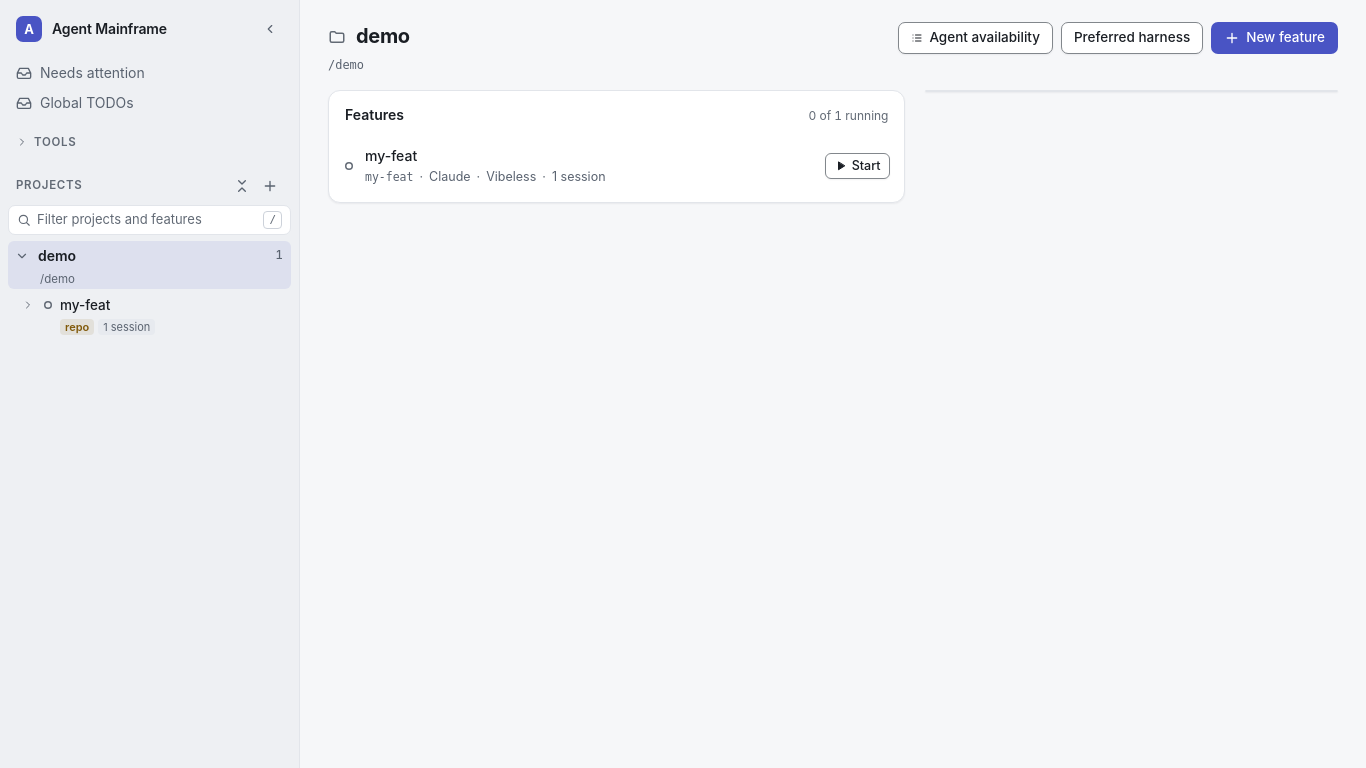
Test: starts a stopped linked editing session through the tab's own start instead of opening another
Click the button "my-feat".
click(172, 305)  # box [60,296,285,315]
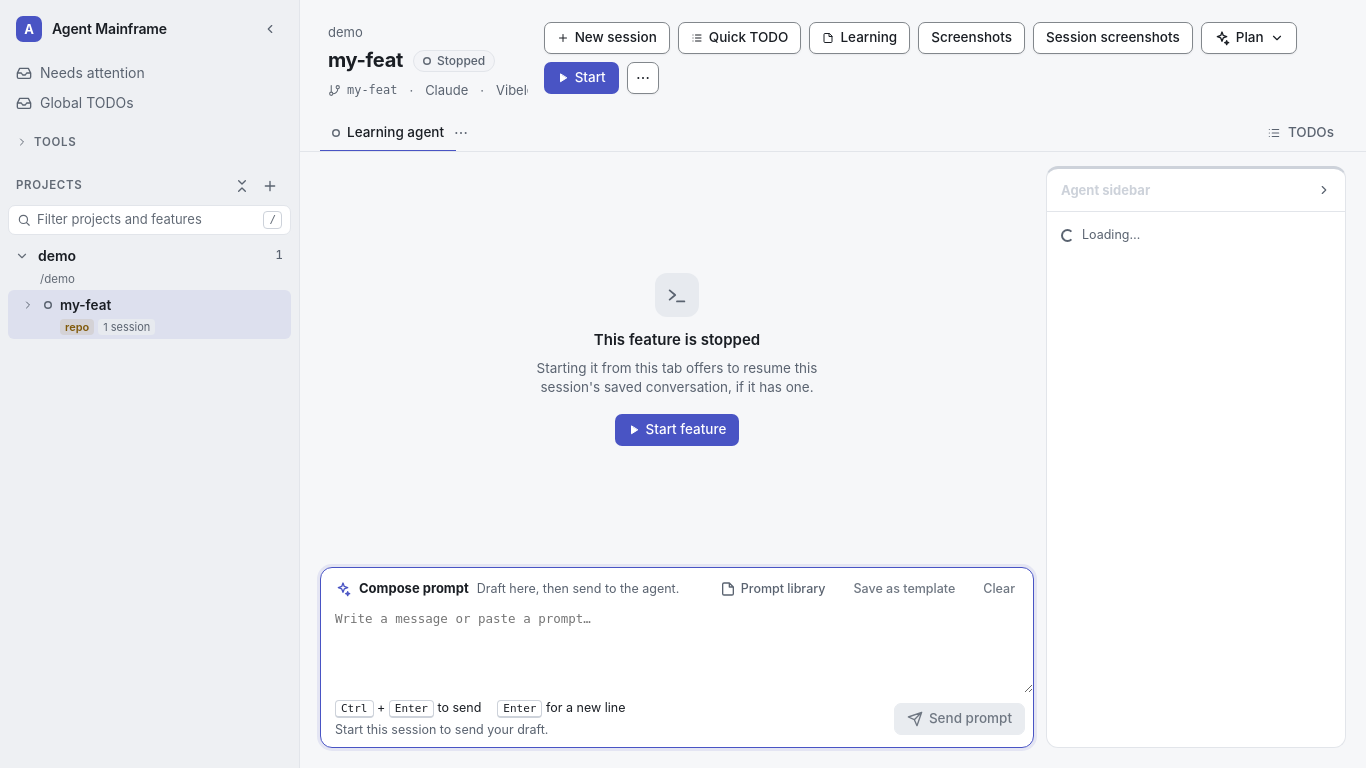
Click the button "Learning".
click(860, 38)  # box [810,22,910,54]
(page scrolled)
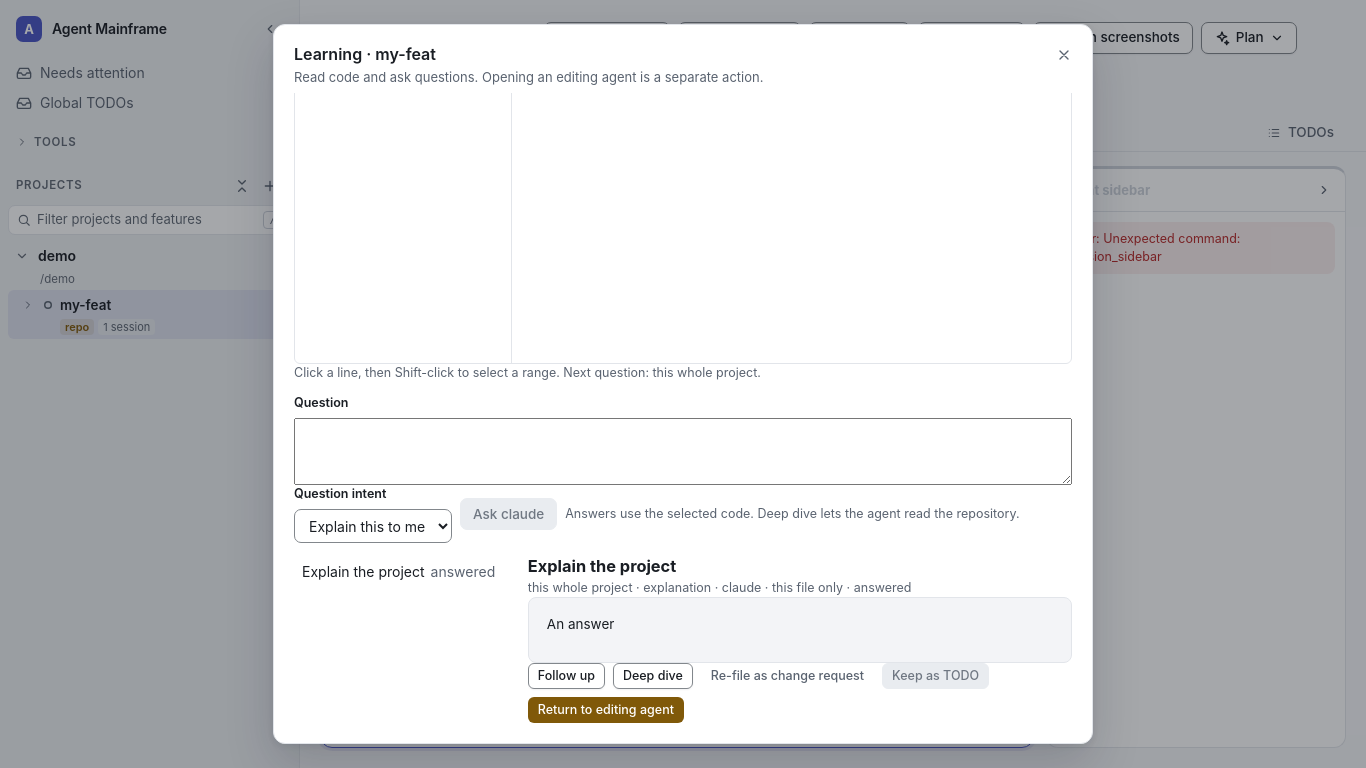
Expected: the dialog "Learning" is shown, [273,24,1093,744]
Click the button "Return to editing agent".
click(606, 710)  # box [528,697,684,723]
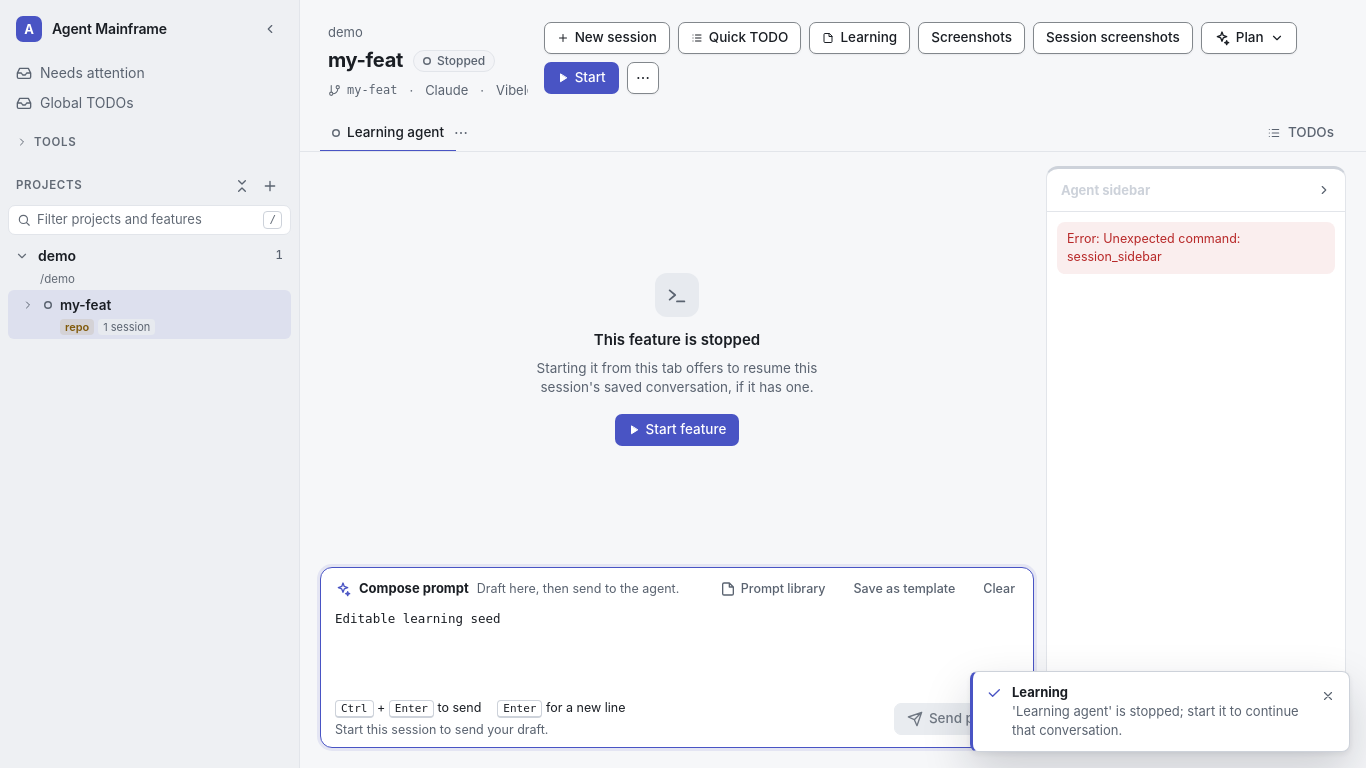
Expected: the text "is stopped; start it" is shown, [1012,703,1299,738]
